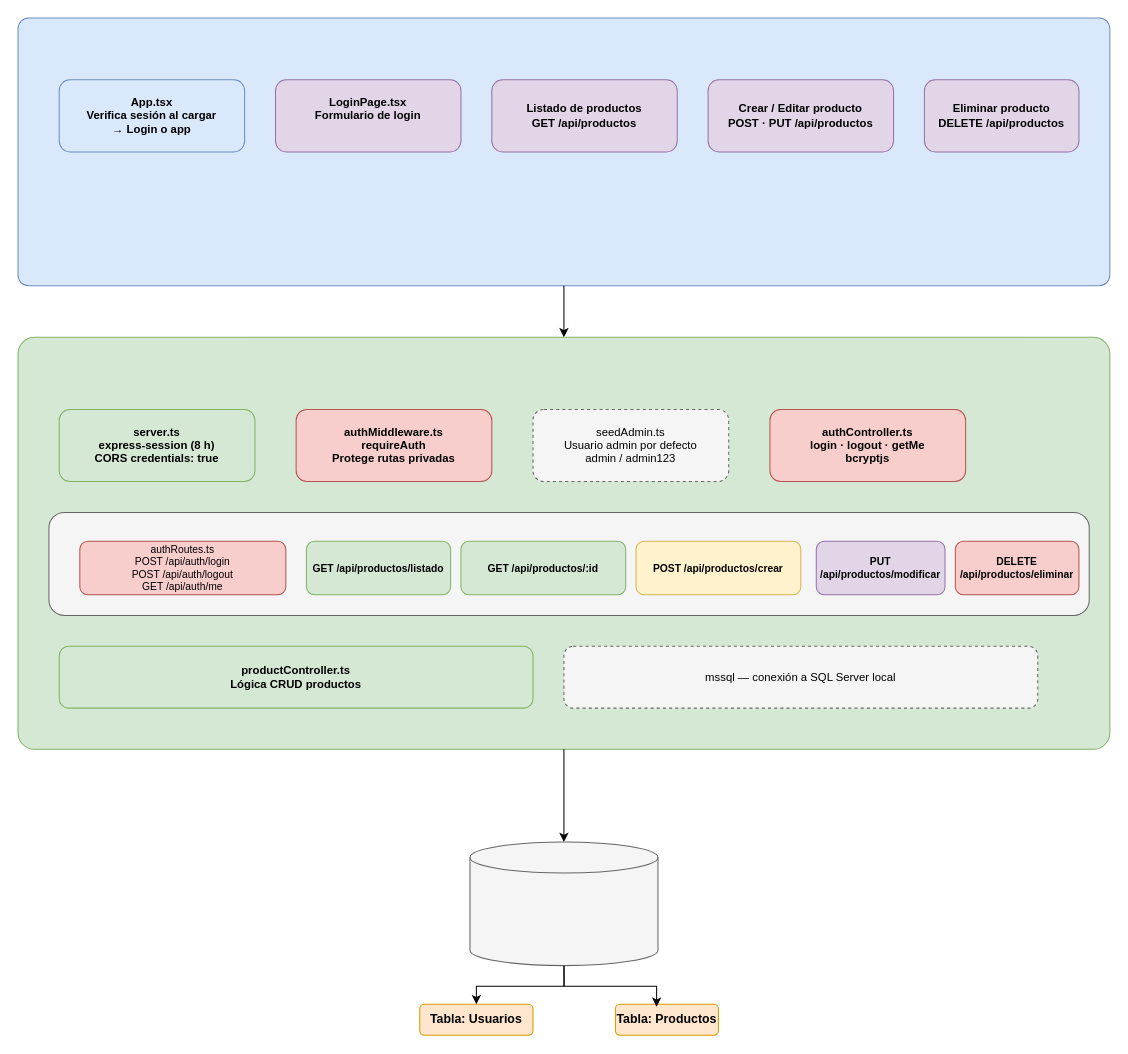
The diagram is 1128 pixels wide and 1054 high, and some of its shapes have lost their labels. The shapes that lost their labels are listed below. From the top down, each one's box as (x1, y1, x2, y2) in pixels, then its label:
(17, 17, 1110, 286): Frontend — React 19 + TypeScript
(17, 336, 1110, 749): Backend — Express + TypeScript
(48, 511, 1089, 615): Rutas
(469, 841, 658, 966): Base de datos — SQL Server local (SSMS 22)
